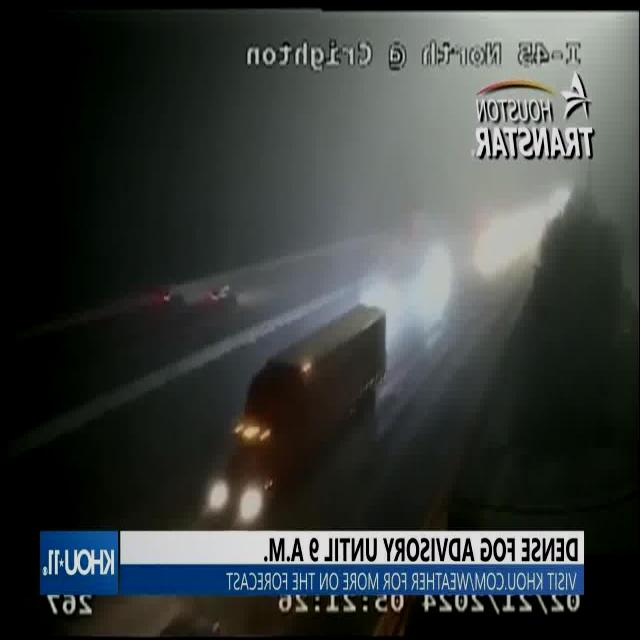Truck: (206, 295, 388, 524)
